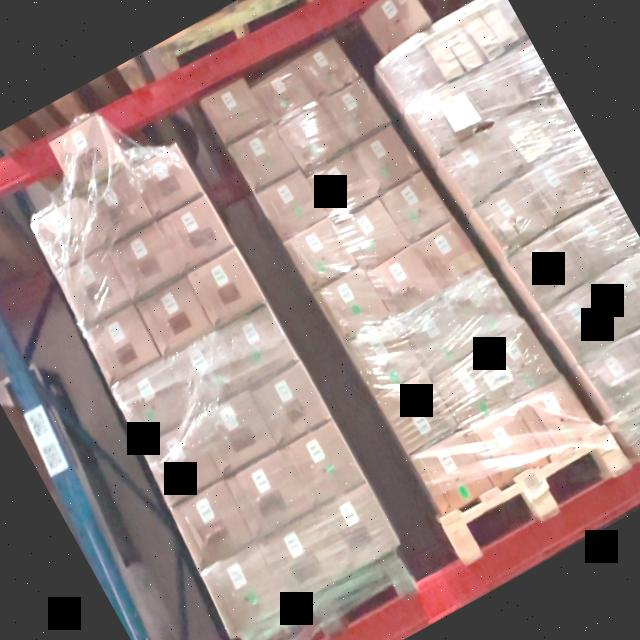box: (202, 545, 290, 635), (314, 484, 401, 574), (227, 450, 312, 538), (172, 479, 257, 566), (260, 515, 344, 603), (282, 421, 366, 507), (414, 432, 496, 516), (113, 360, 194, 442), (250, 364, 330, 446), (468, 404, 548, 486), (198, 392, 278, 473), (217, 306, 296, 387), (381, 372, 459, 453), (144, 422, 222, 503), (84, 304, 162, 384), (167, 332, 244, 413), (186, 249, 264, 328), (138, 276, 214, 353), (518, 377, 594, 454), (57, 251, 132, 326), (436, 351, 511, 426), (350, 318, 424, 394), (80, 170, 154, 246), (558, 204, 632, 280), (158, 197, 232, 272), (110, 223, 184, 298), (402, 298, 474, 374), (548, 285, 620, 361), (316, 266, 389, 340), (52, 115, 125, 188), (484, 324, 554, 398), (512, 232, 582, 306), (130, 146, 201, 218), (34, 199, 104, 271), (286, 218, 356, 289), (368, 247, 438, 318), (415, 219, 484, 291), (446, 272, 515, 344), (257, 170, 327, 240), (382, 172, 449, 242), (479, 182, 546, 251), (202, 76, 268, 146), (230, 125, 298, 192), (526, 154, 593, 222), (352, 125, 418, 193), (338, 202, 404, 270), (322, 78, 388, 146), (412, 86, 478, 154), (490, 106, 556, 174), (584, 339, 640, 418), (309, 153, 375, 220), (446, 136, 512, 202), (381, 42, 446, 108), (458, 60, 522, 125), (280, 104, 343, 170), (424, 16, 487, 82), (296, 38, 357, 99), (362, 0, 430, 52), (465, 0, 527, 57), (596, 255, 640, 334), (500, 42, 556, 104), (255, 65, 313, 124), (538, 93, 584, 149), (573, 140, 613, 196)
